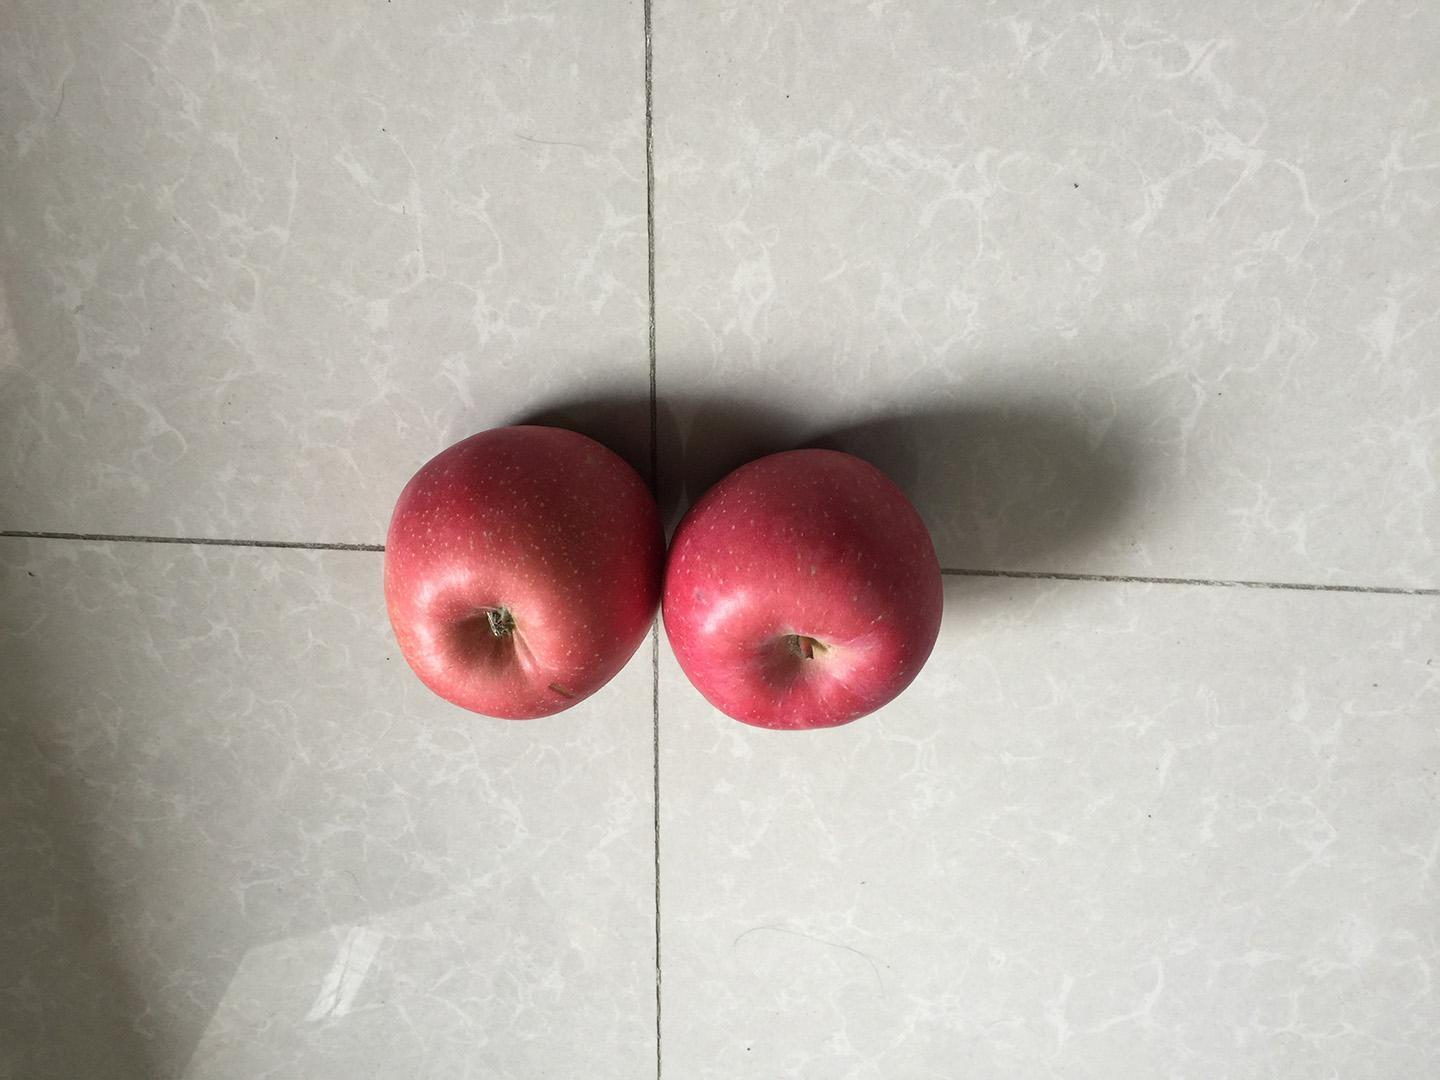apple: (376, 417, 672, 727), (659, 442, 950, 740)
